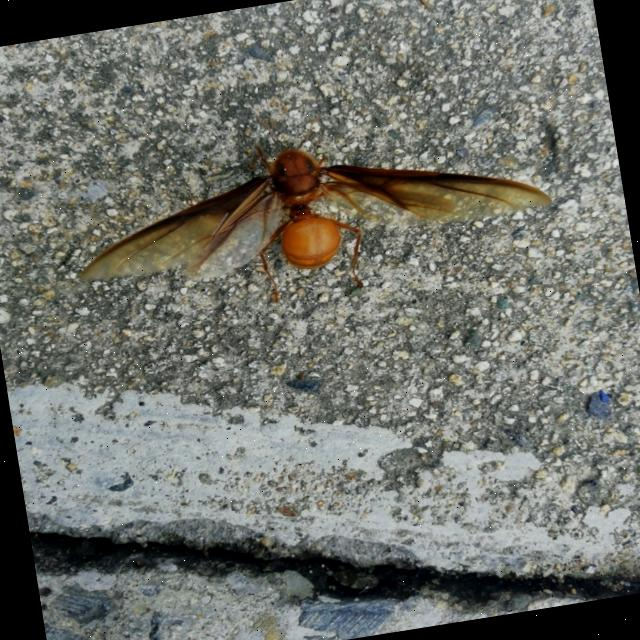Alive-Male-Alate: (58, 70, 562, 334)
